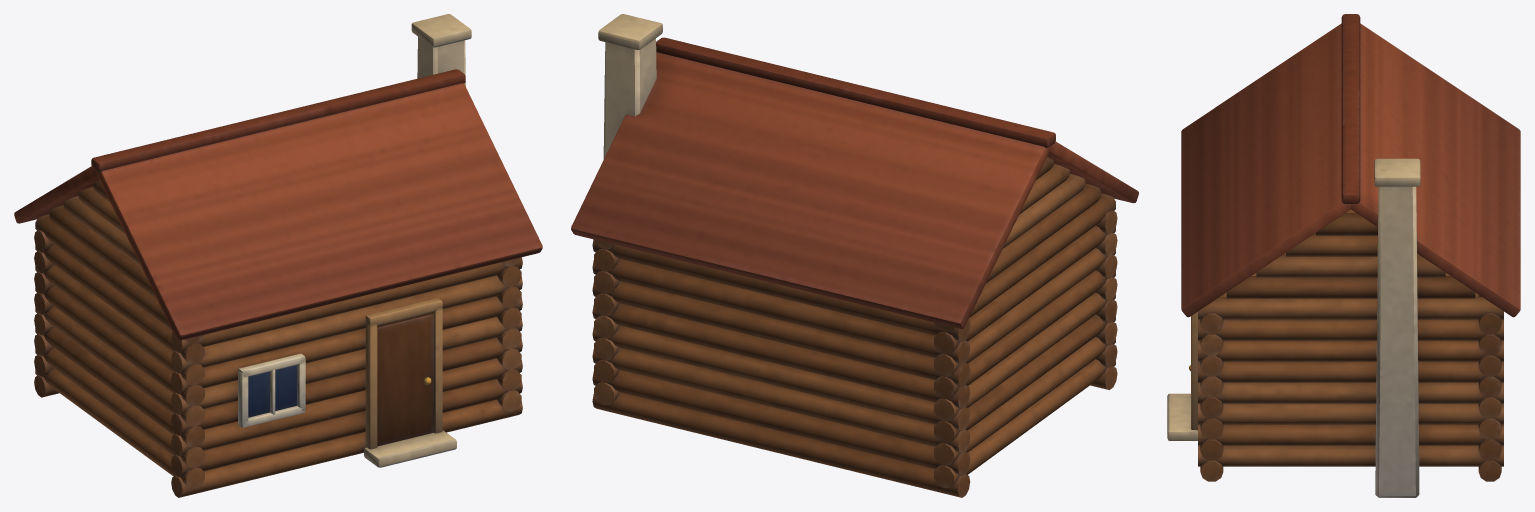
The model's file is Stage_Lake_Cabin.glb.
3 views of the same model, side by side, from view 1: azimuth 30°, elevation 25°; view 2: azimuth 150°, elevation 25°; view 3: azimuth 270°, elevation 25° (orthographic). The views are drawn at different scales.
Parts seen in each view (by area): view 1: Stage_Lake_Cabin; view 2: Stage_Lake_Cabin; view 3: Stage_Lake_Cabin.
Part boxes in pixels (x1,y1,x2,y2): Stage_Lake_Cabin: (14,14,542,497); Stage_Lake_Cabin: (571,14,1138,497); Stage_Lake_Cabin: (1167,14,1520,497).
Bounding box in the file's own units: 19.7 × 15.35 × 15.23.
Materials: 1 (1 with a texture image).
